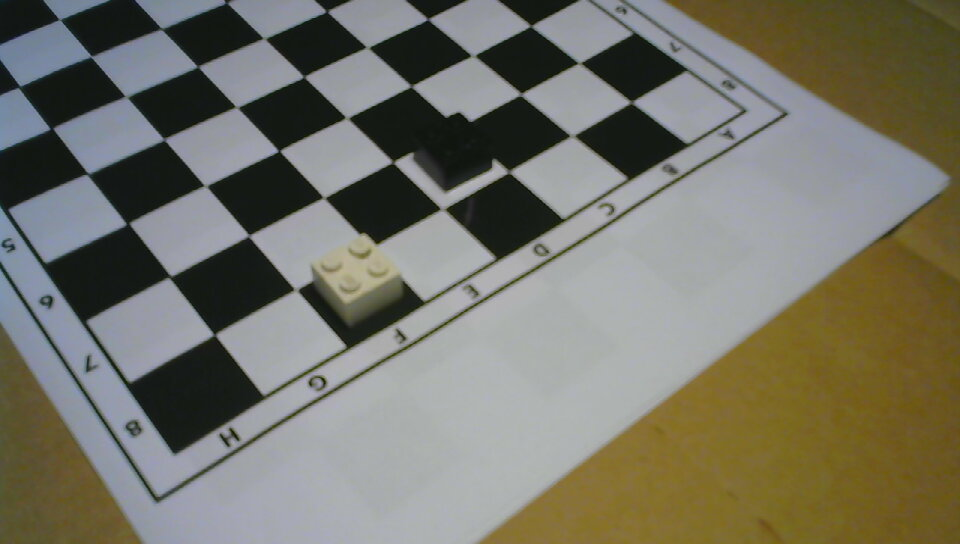bp: (412, 111, 493, 192)
wp: (308, 233, 402, 326)
